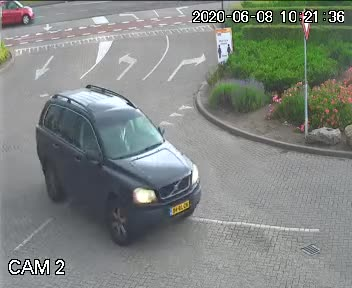car: (14, 76, 199, 230), (0, 0, 35, 30)
